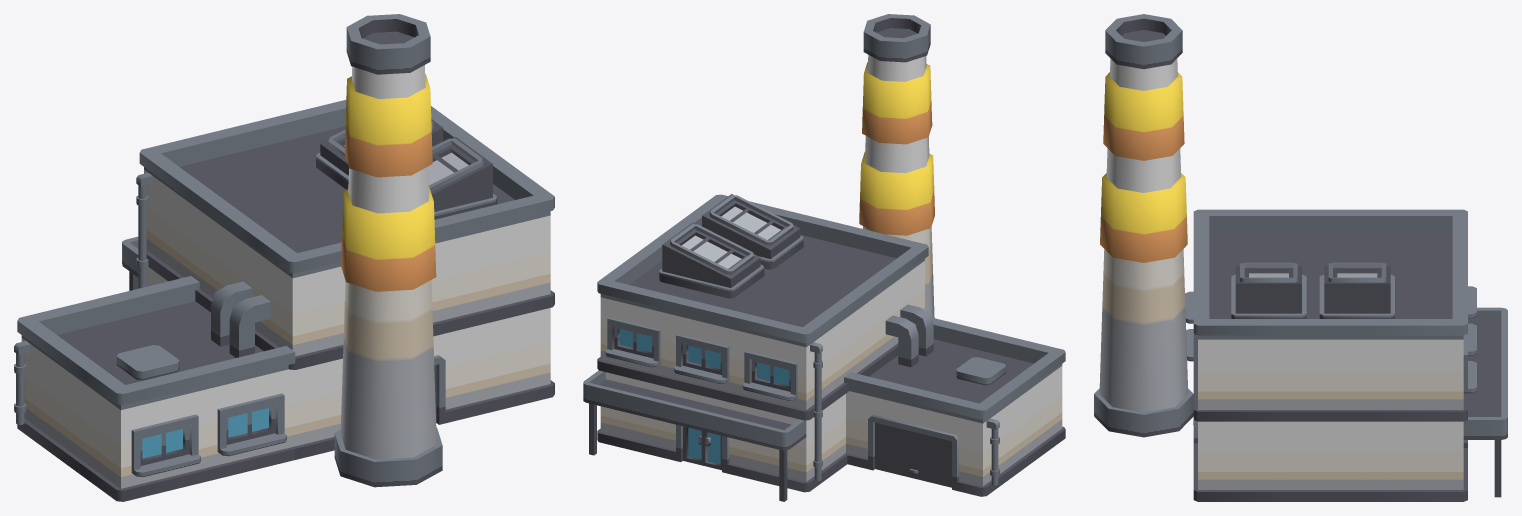
The model's file is factory-a.glb.
3 views of the same model, side by side, from view 1: azimuth 30°, elevation 25°; view 2: azimuth 150°, elevation 25°; view 3: azimuth 270°, elevation 25° (orthographic). The views are drawn at different scales.
Visible parts, largest first — view 1: factory-a; view 2: factory-a; view 3: factory-a.
Boxes of the visible parts, x1=… form: factory-a: x1=14, y1=14, x2=554, y2=501; factory-a: x1=583, y1=14, x2=1065, y2=501; factory-a: x1=1094, y1=14, x2=1507, y2=501.
Bounding box in the file's own units: 0.9 × 0.8316 × 0.8077.
1 material, 1 textured.
